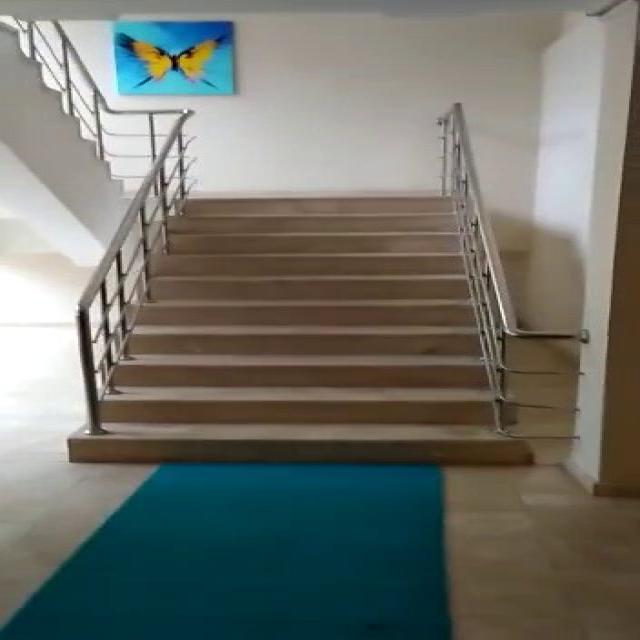stair: (87, 198, 531, 471)
